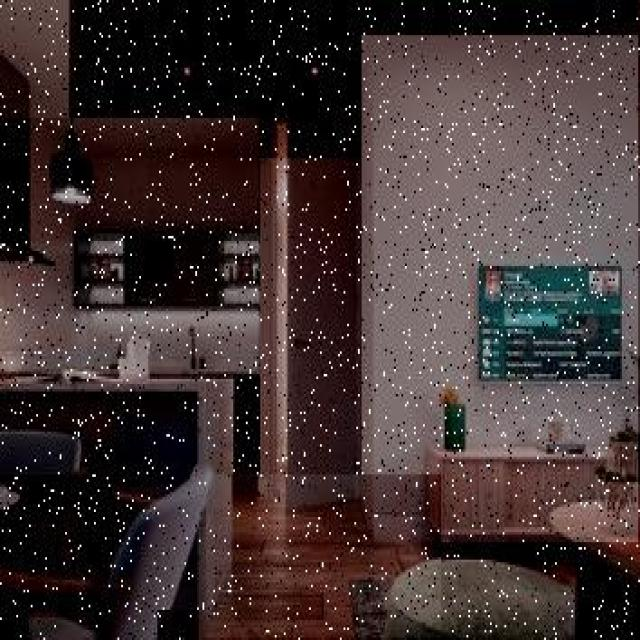Wall: (362, 36, 638, 542), (75, 2, 640, 158), (0, 119, 259, 374), (207, 477, 441, 637), (0, 0, 69, 131), (459, 545, 573, 585), (158, 612, 195, 637)
